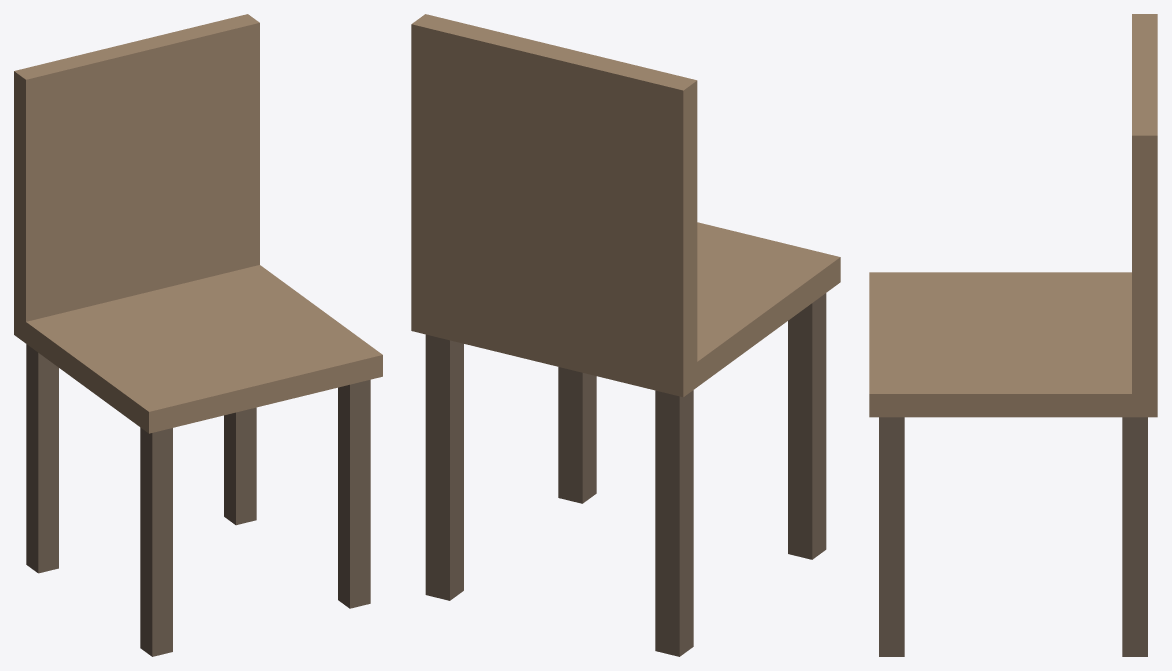
File: item_chair.glb
3 renders of one model, left to right at view 1: azimuth 30°, elevation 25°; view 2: azimuth 150°, elevation 25°; view 3: azimuth 270°, elevation 25°, orthographic. The views are drawn at different scales.
Visible parts, largest first — view 1: item_chair; view 2: item_chair; view 3: item_chair.
Part boxes in pixels (bbox=[...]): item_chair: bbox=[14, 14, 382, 656]; item_chair: bbox=[411, 14, 840, 656]; item_chair: bbox=[869, 14, 1157, 656].
Bounding box in the file's own units: 0.45 × 0.905 × 0.45.
